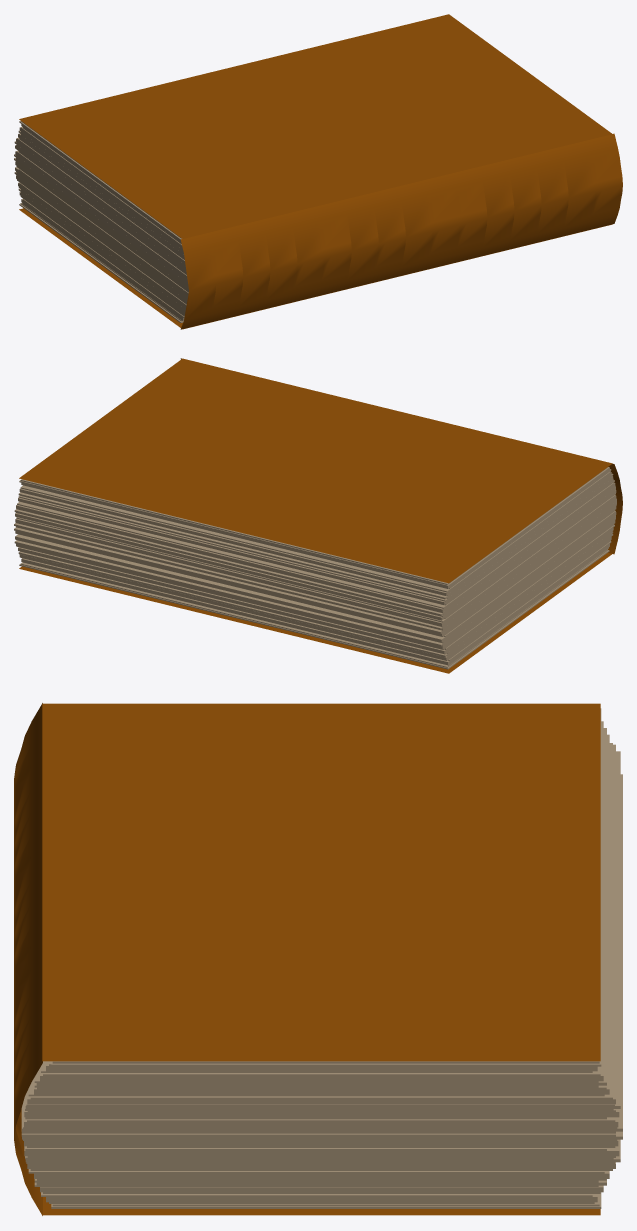
File: bible.fbx
The picture shows the model from 3 angles, top to bottom: view 1: azimuth 30°, elevation 25°; view 2: azimuth 150°, elevation 25°; view 3: azimuth 270°, elevation 25°; orthographic projection. The views are drawn at different scales.
Visible parts, largest first — view 1: Bible; view 2: Bible; view 3: Bible.
Boxes of the visible parts, left/top/right/bottom form: Bible: left=14, top=14, right=622, bottom=329; Bible: left=14, top=358, right=622, bottom=673; Bible: left=14, top=703, right=622, bottom=1215.
Bounding box in the file's own units: 3.82 × 0.7607 × 2.73.
